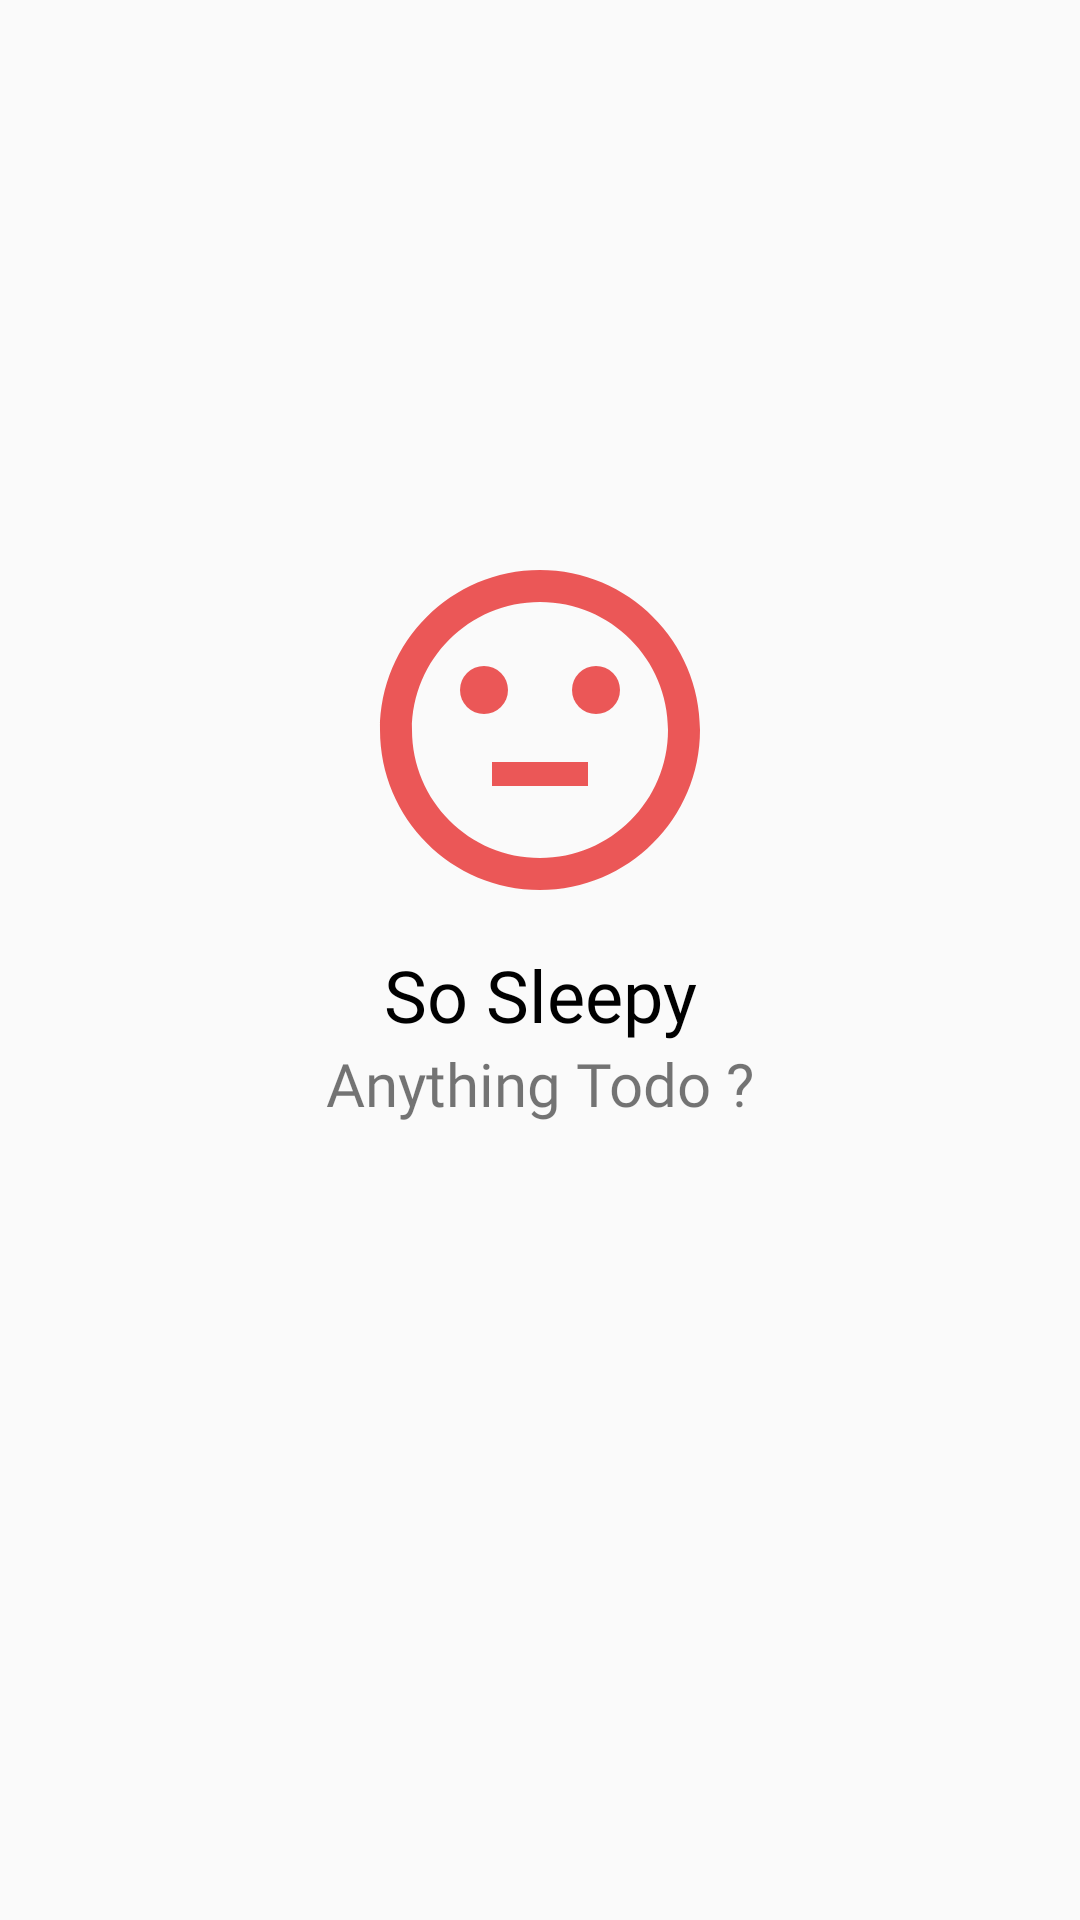

Named icons in this screenshot (1080w x 1920h) and their centers, (x,y):
sentiment neutral: (540,730)
